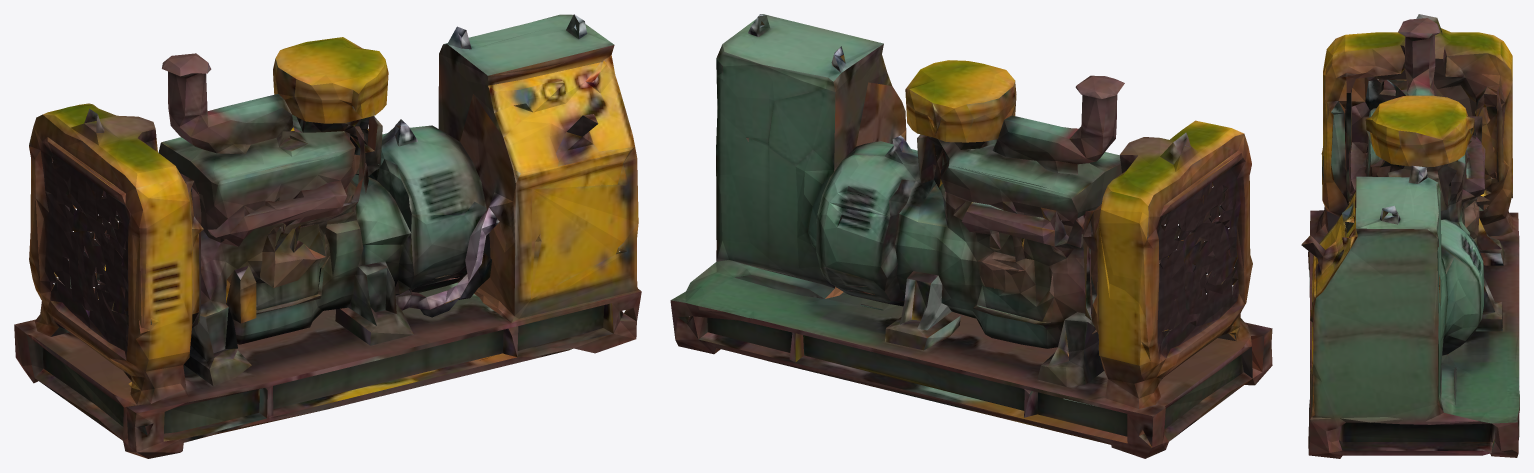
File: park_generator_1117.glb
The picture shows the model from 3 angles, left to right: view 1: azimuth 30°, elevation 25°; view 2: azimuth 150°, elevation 25°; view 3: azimuth 270°, elevation 25°; orthographic projection. The views are drawn at different scales.
Parts seen in each view (by area): view 1: world; view 2: world; view 3: world.
Boxes of the visible parts, x1,y1,x2,y2 form: world: (14, 14, 641, 458); world: (670, 14, 1272, 458); world: (1301, 14, 1519, 458).
Bounding box in the file's own units: 1.6 × 1 × 0.7088.
Materials: 1 (1 with a texture image).
